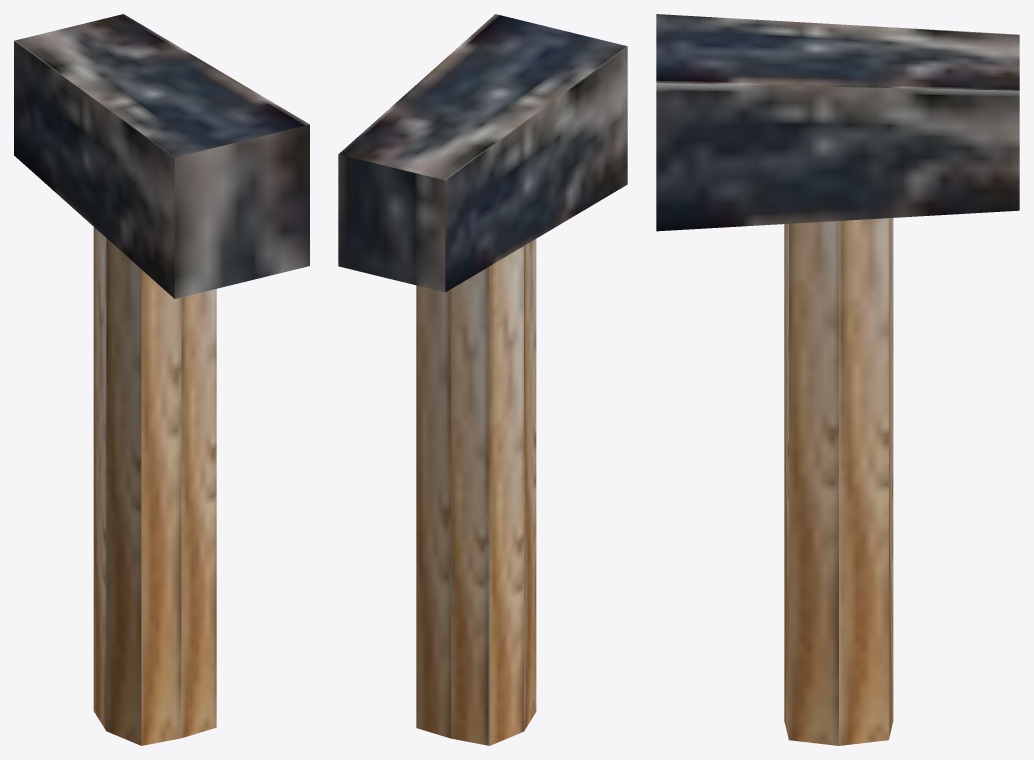
File: hammer.obj
3 renders of one model, left to right at view 1: azimuth 30°, elevation 25°; view 2: azimuth 150°, elevation 25°; view 3: azimuth 270°, elevation 25°, orthographic. The views are drawn at different scales.
Parts seen in each view (by area): view 1: Cube_Cube.001; view 2: Cube_Cube.001; view 3: Cube_Cube.001.
Part boxes in pixels (<box>): Cube_Cube.001: <box>14,14,309,745</box>; Cube_Cube.001: <box>338,14,627,745</box>; Cube_Cube.001: <box>656,14,1019,745</box>.
Bounding box in the file's own units: 0.36 × 1.63 × 0.8.
